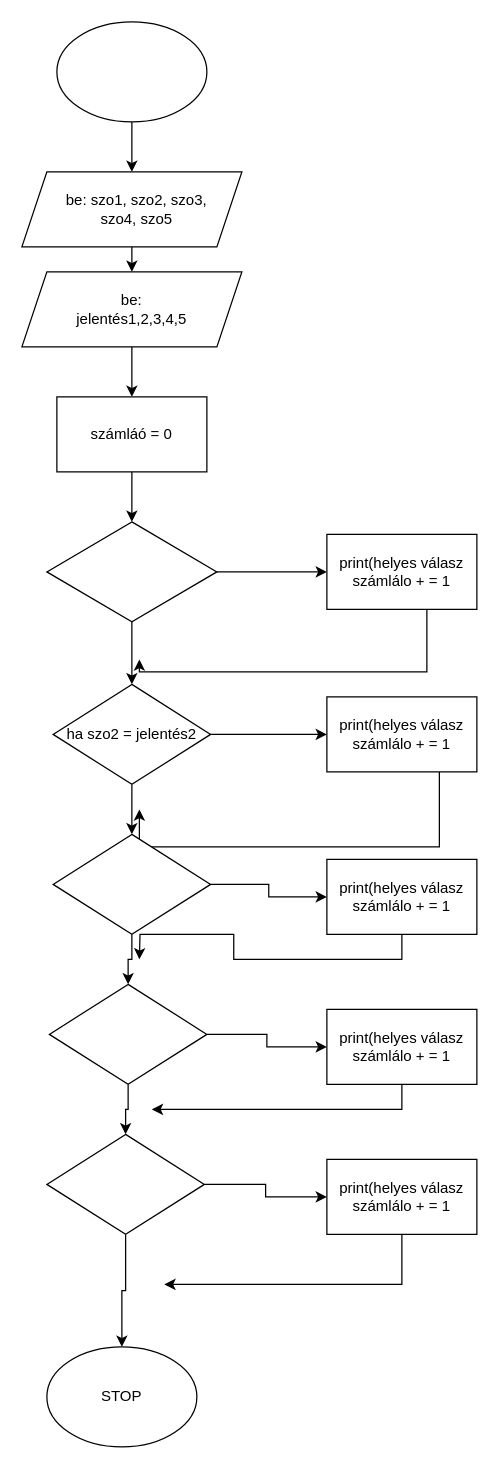
This 499x1469 diagram has some shape labels left out. The centre of each missing label's shape, as x and y in pixels:
"Ha szo1 = jelentés1" belongs at (x=131, y=571).
"ha szo3 = jelentés3" belongs at (x=131, y=883).
"ha szo4 = jelentés4" belongs at (x=127, y=1033).
"ha szo5 = jelentés5" belongs at (x=125, y=1183).
"START" belongs at (x=131, y=71).
